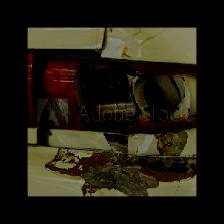tail_lamp: (28, 41, 196, 185)
